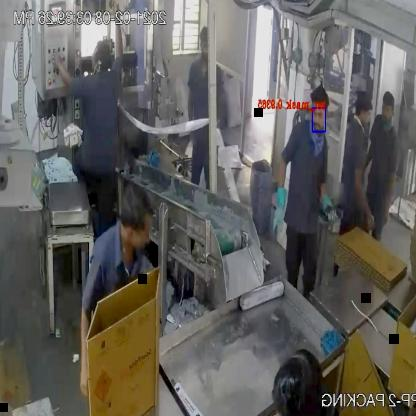glove: (267, 144, 297, 250), (313, 166, 343, 233)
no_glove: (73, 291, 99, 409), (349, 157, 374, 242)
